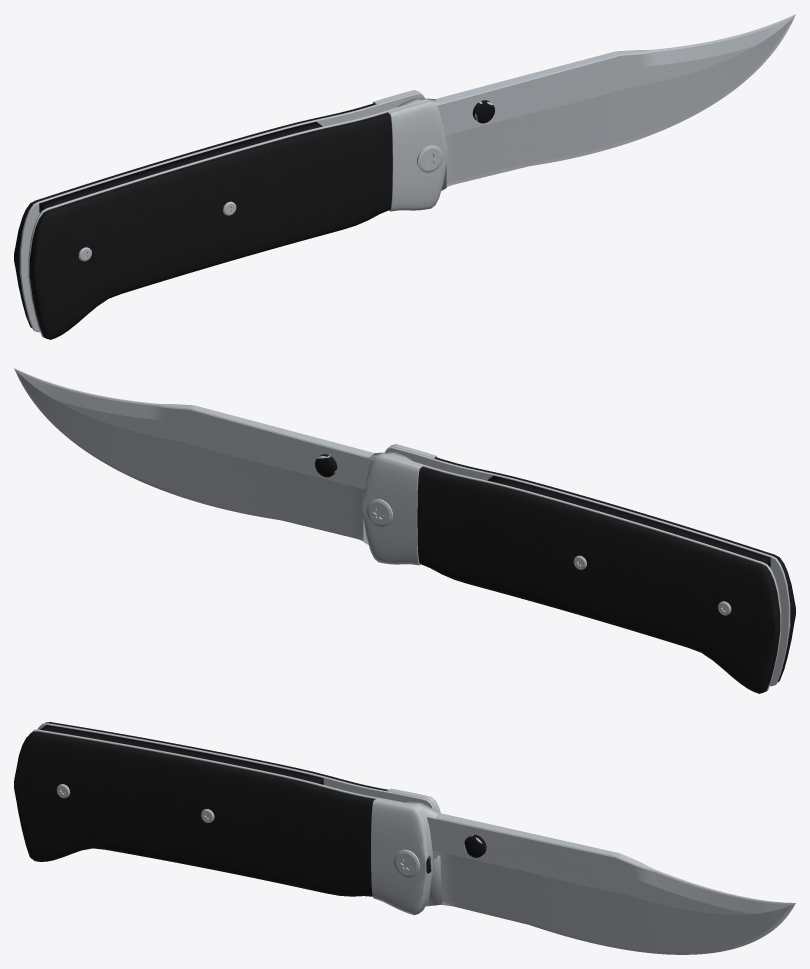
Rendered from falchion.glb.
3 views of the same model, one above another, from view 1: azimuth 30°, elevation 25°; view 2: azimuth 150°, elevation 25°; view 3: azimuth 330°, elevation 25° (orthographic).
Parts seen in each view (by area): view 1: body, blade_pivot_mesh; view 2: body, blade_pivot_mesh; view 3: body, blade_pivot_mesh.
Boxes of the visible parts, x1,y1,x2,y2 form: body: (14,90,447,339); blade_pivot_mesh: (397,14,795,190); body: (362,444,795,693); blade_pivot_mesh: (14,368,412,544); body: (14,722,440,915); blade_pivot_mesh: (404,801,795,954).
Bounding box in the file's own units: 0.278 × 0.0505 × 0.0155.
Materials: 5 (5 with a texture image).
